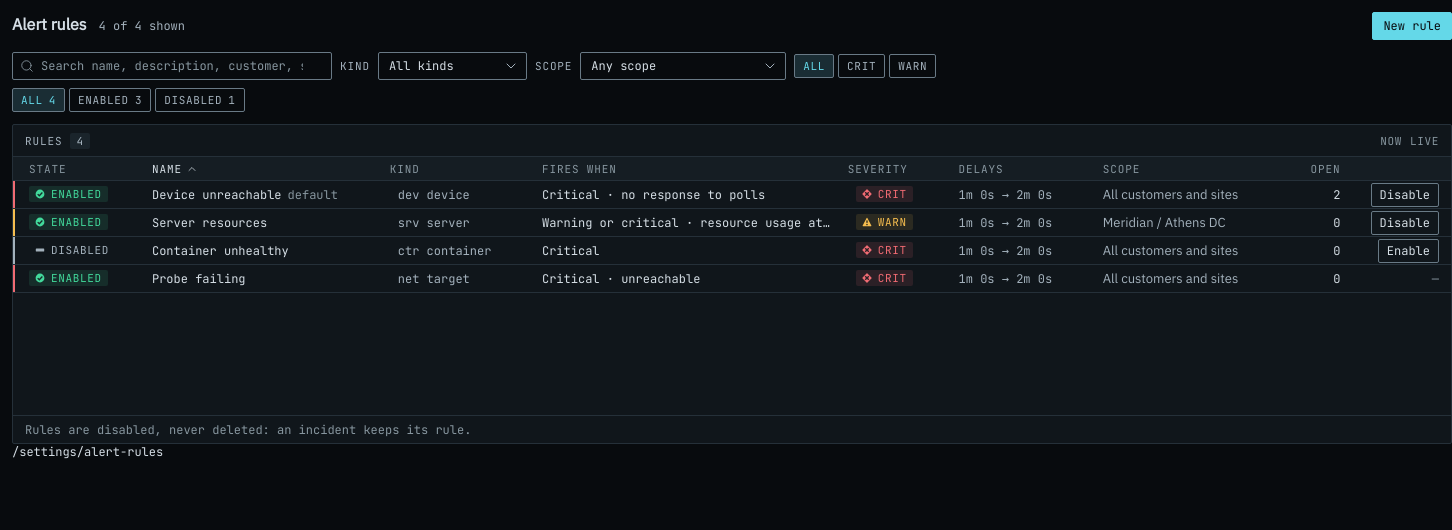
Test: switching a rule on or off › enables a disabled rule at once, with the version that was read
Click the button with aria-label "Enable rule Container unhealthy" at (1408, 250), box [1378,238,1439,262]
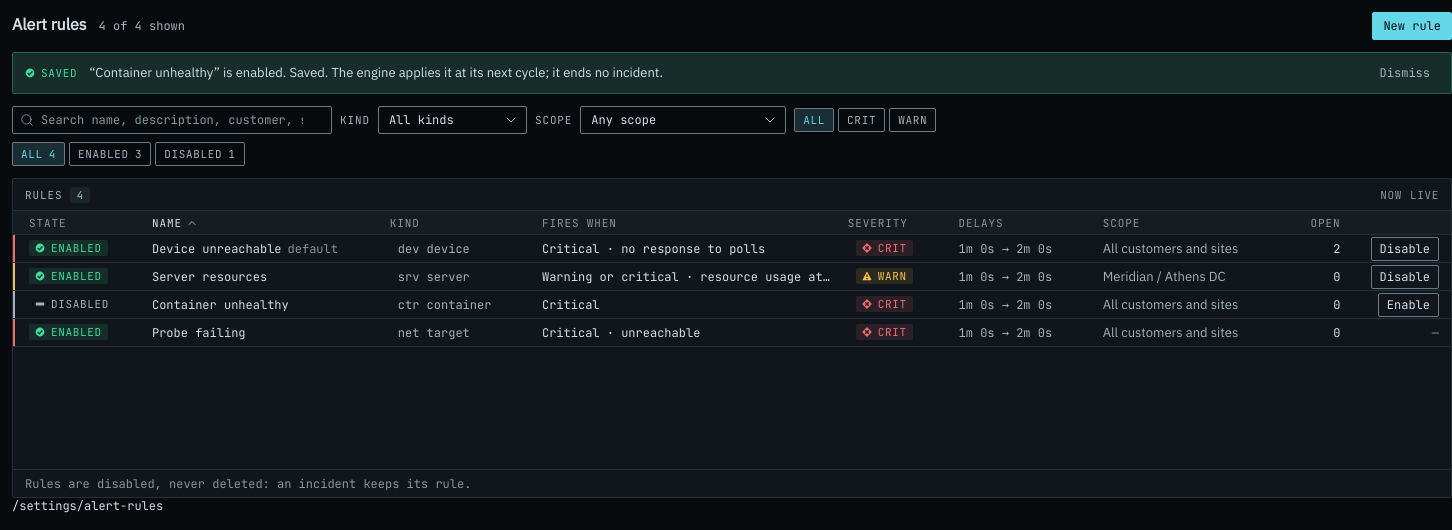
Expected: the text "“Container unhealthy” is enabled." is shown, [89,64,663,81]
